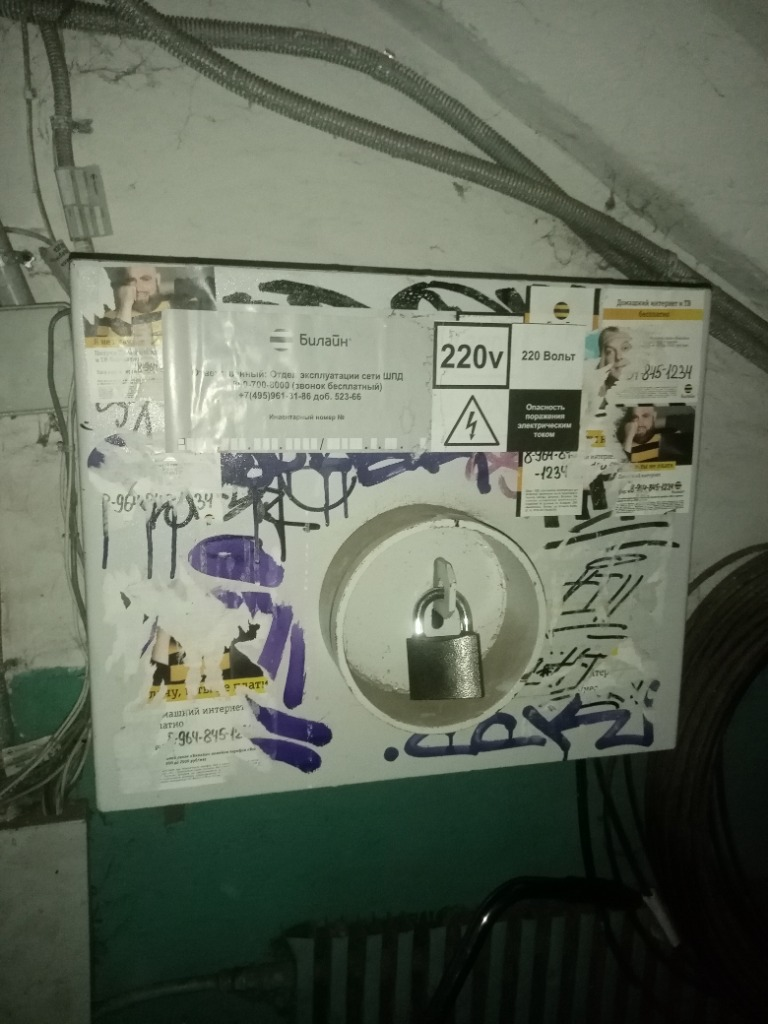shta-3: (66, 252, 716, 814)
